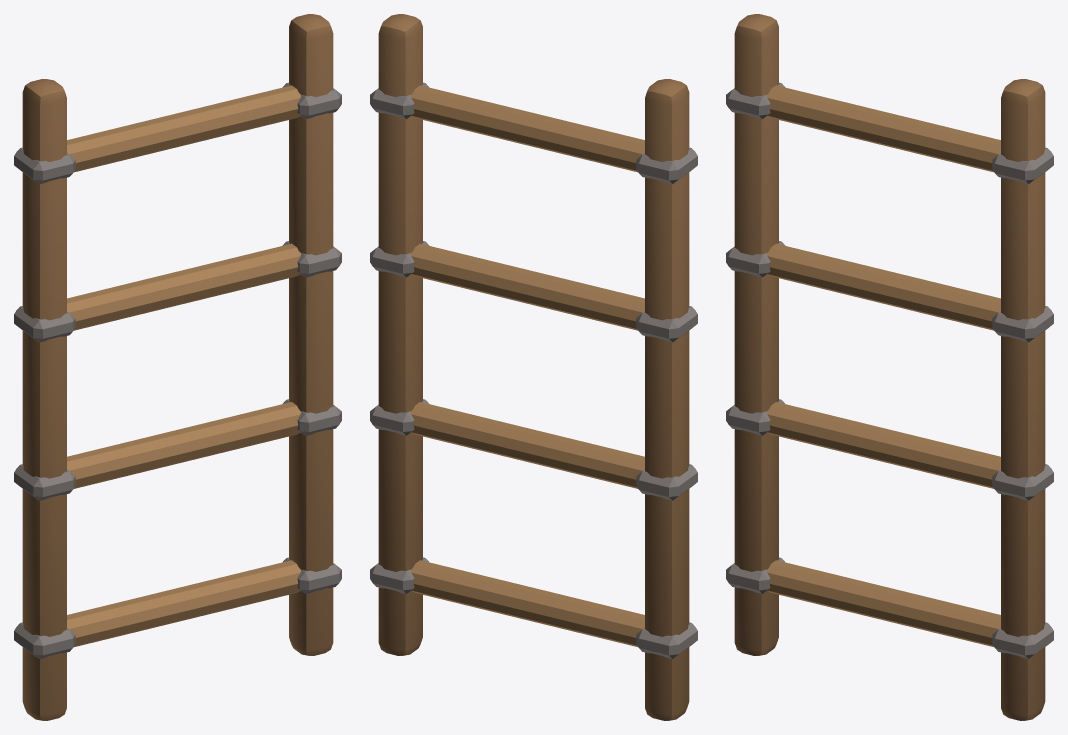
File: ladder.glb
The picture shows the model from 3 angles, left to right: view 1: azimuth 30°, elevation 25°; view 2: azimuth 150°, elevation 25°; view 3: azimuth 330°, elevation 25°; orthographic projection.
Visible parts, largest first — view 1: ladder; view 2: ladder; view 3: ladder.
Boxes of the visible parts, x1,y1,x2,y2 form: ladder: [14, 14, 341, 720]; ladder: [370, 14, 697, 720]; ladder: [726, 14, 1053, 720].
Size of the model in its own units: 0.51 by 1 by 0.075.
